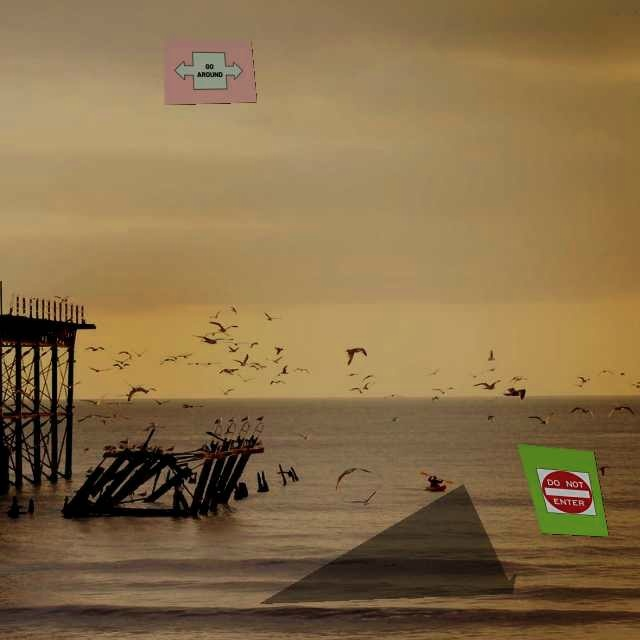DO_NOT_ENTER: (536, 460, 597, 524)
GO_AROUND: (171, 51, 246, 90)
